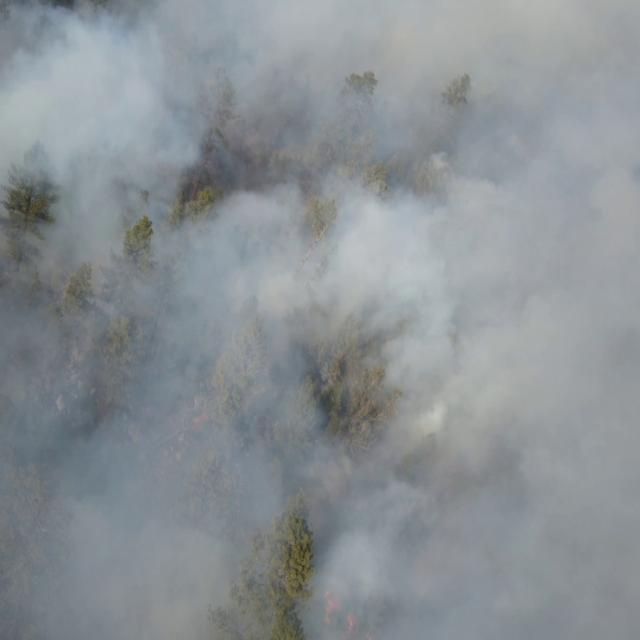fire: (315, 582, 375, 640)
smoke: (0, 0, 640, 640)
